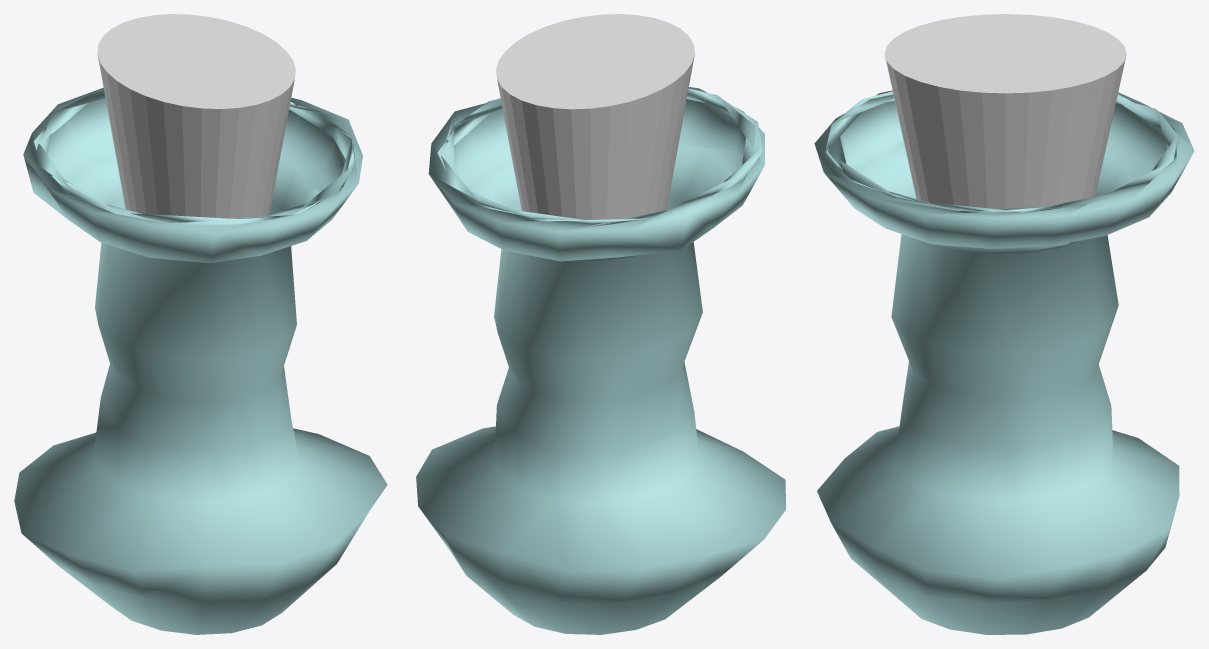
File: potiunepalariemodcol.fbx
3 renders of one model, left to right at view 1: azimuth 30°, elevation 25°; view 2: azimuth 150°, elevation 25°; view 3: azimuth 270°, elevation 25°, orthographic. The views are drawn at different scales.
Parts seen in each view (by area): view 1: Plane.001, Cylinder.002; view 2: Plane.001, Cylinder.002; view 3: Plane.001, Cylinder.002.
Boxes of the visible parts, x1,y1,x2,y2 form: Plane.001: (14, 87, 387, 634); Cylinder.002: (97, 14, 295, 218); Plane.001: (416, 87, 785, 634); Cylinder.002: (496, 14, 694, 219); Plane.001: (814, 90, 1194, 634); Cylinder.002: (884, 14, 1126, 209).
Size of the model in its own units: 409 by 651 by 388.
